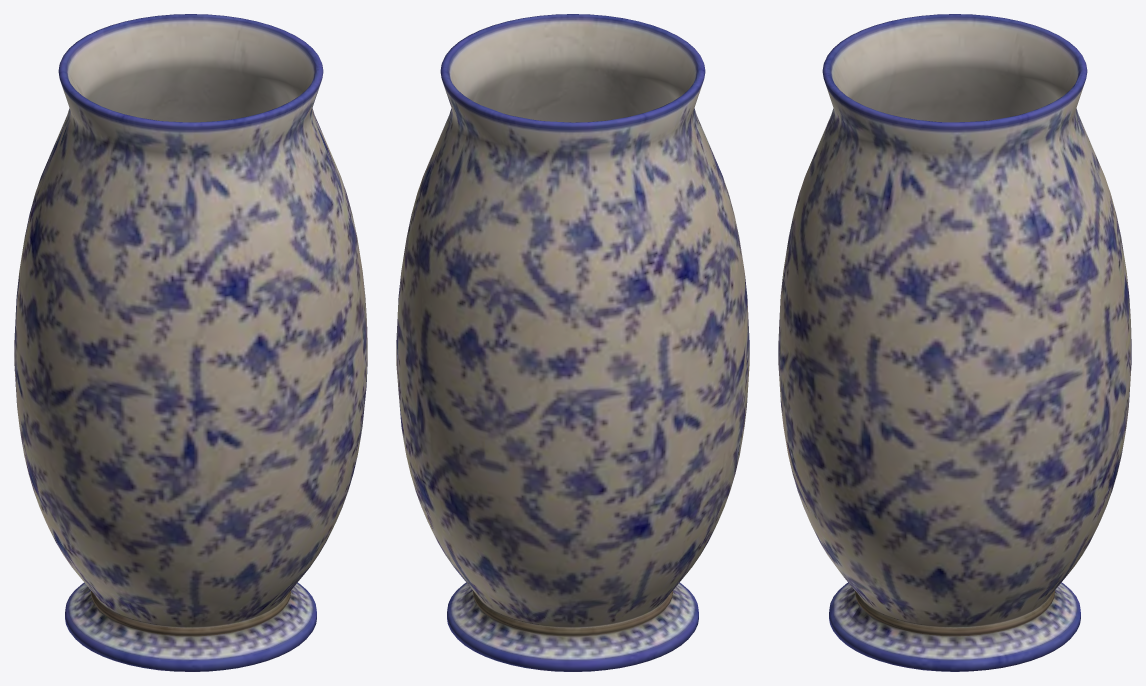
File: antique_ceramic_vase_01.glb
3 views of the same model, side by side, from view 1: azimuth 30°, elevation 25°; view 2: azimuth 150°, elevation 25°; view 3: azimuth 270°, elevation 25° (orthographic).
Visible parts, largest first — view 1: antique_ceramic_vase_01; view 2: antique_ceramic_vase_01; view 3: antique_ceramic_vase_01.
Boxes of the visible parts, <box> form: antique_ceramic_vase_01: <box>14,14,367,671</box>; antique_ceramic_vase_01: <box>396,14,749,671</box>; antique_ceramic_vase_01: <box>778,14,1131,671</box>.
Size of the model in its own units: 0.255 by 0.4396 by 0.255.
Materials: 1 (1 with a texture image).
